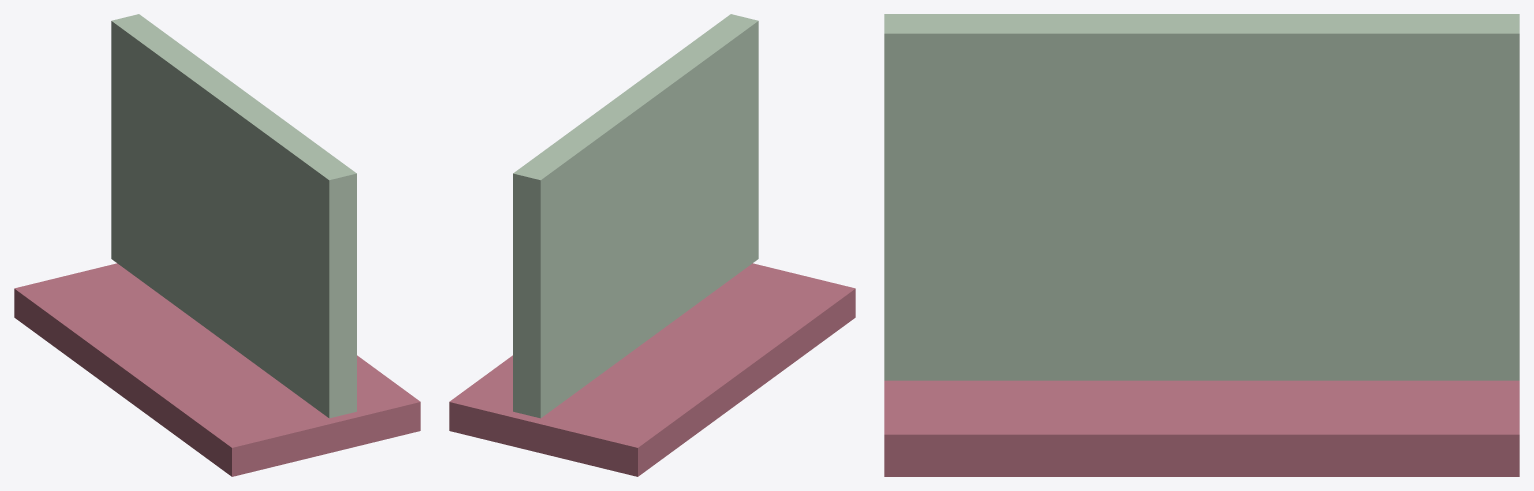
Rendered from 199501_pred.glb.
3 renders of one model, left to right at view 1: azimuth 30°, elevation 25°; view 2: azimuth 150°, elevation 25°; view 3: azimuth 270°, elevation 25°, orthographic. The views are drawn at different scales.
Visible parts, largest first — view 1: world; view 2: world; view 3: world.
Boxes of the visible parts, <box> form: world: <box>14,14,420,476</box>; world: <box>449,14,855,476</box>; world: <box>884,14,1519,476</box>.
Size of the model in its own units: 3.4 by 4.7 by 6.8.
